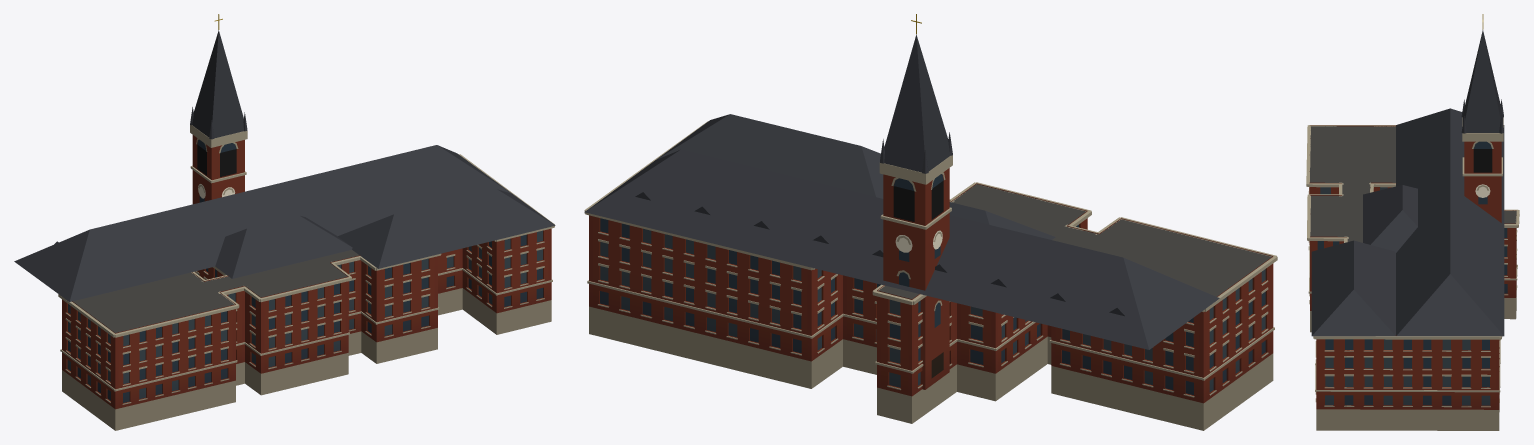
The model's file is ambrose.glb.
3 views of the same model, side by side, from view 1: azimuth 30°, elevation 25°; view 2: azimuth 150°, elevation 25°; view 3: azimuth 270°, elevation 25° (orthographic). The views are drawn at different scales.
Visible parts, largest first — view 1: ambrose_lod0; view 2: ambrose_lod0; view 3: ambrose_lod0.
Part boxes in pixels (x1=…): ambrose_lod0: x1=14, y1=14, x2=555, y2=430; ambrose_lod0: x1=584, y1=14, x2=1277, y2=430; ambrose_lod0: x1=1306, y1=14, x2=1519, y2=430.
Size of what is drawn, in the model's own units: 86.2 by 56.5 by 36.61.
